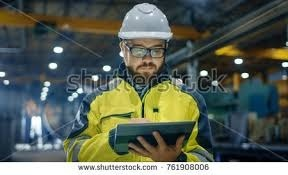helmet: (114, 3, 176, 41)
person with partial safety: (63, 1, 214, 162)
